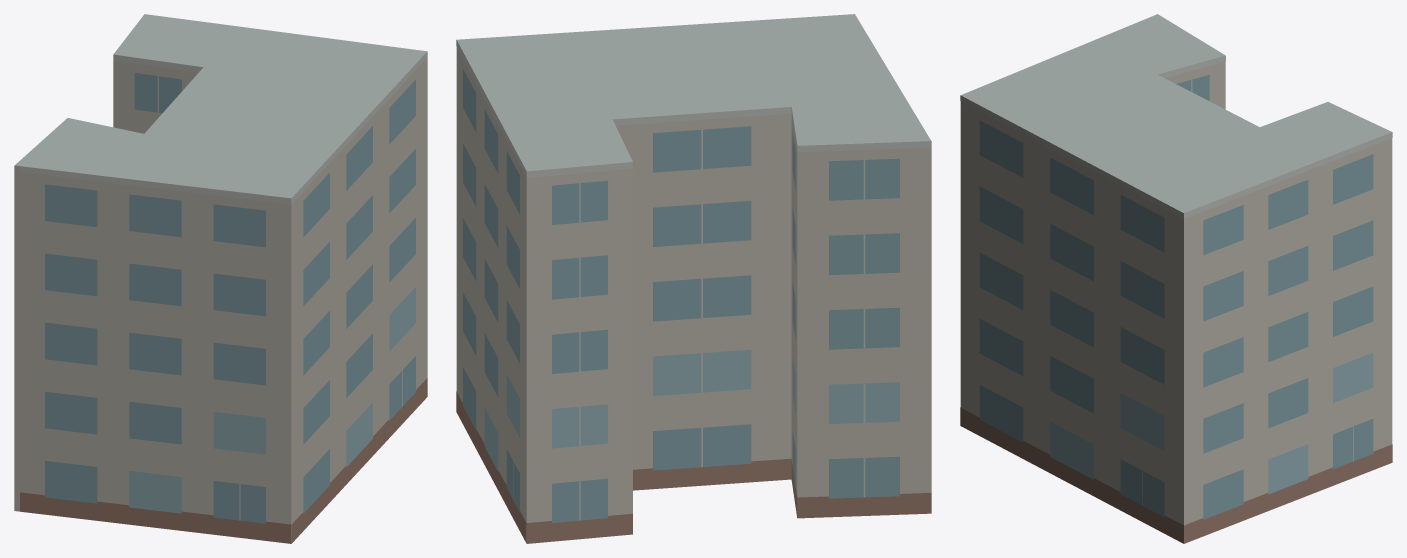
Rendered from survey-upis-32833245.glb.
3 renders of one model, left to right at view 1: azimuth 30°, elevation 25°; view 2: azimuth 150°, elevation 25°; view 3: azimuth 270°, elevation 25°, orthographic. The views are drawn at different scales.
Parts seen in each view (by area): view 1: survey-upis-32833245.tmp; view 2: survey-upis-32833245.tmp; view 3: survey-upis-32833245.tmp.
Boxes of the visible parts, left/top/right/bottom form: survey-upis-32833245.tmp: left=14, top=14, right=427, bottom=543; survey-upis-32833245.tmp: left=456, top=14, right=931, bottom=543; survey-upis-32833245.tmp: left=960, top=14, right=1392, bottom=543.
Bounding box in the file's own units: 17.85 × 13.8 × 16.34.
